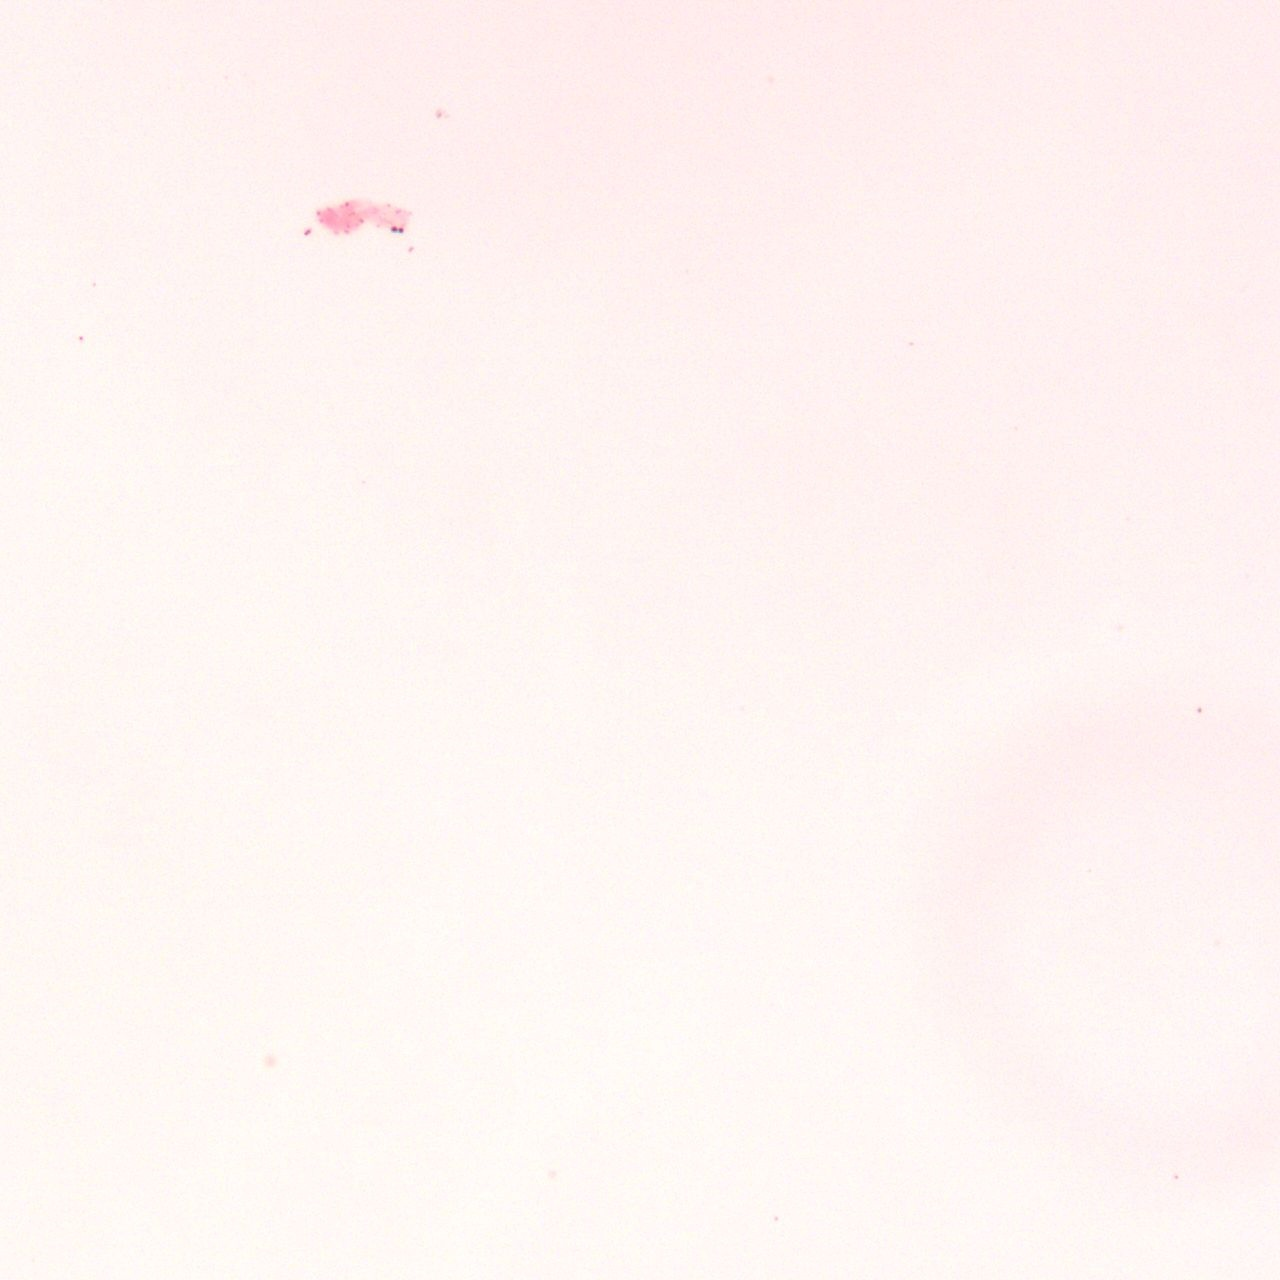dust: (313, 209, 324, 224), (300, 227, 315, 237), (406, 243, 416, 254), (343, 222, 350, 236), (326, 206, 335, 215), (394, 207, 403, 216), (390, 225, 397, 234), (343, 200, 350, 209), (358, 217, 365, 225), (435, 113, 443, 120), (347, 211, 356, 217), (384, 202, 392, 207), (375, 223, 381, 230), (399, 227, 404, 234), (332, 230, 340, 234), (79, 335, 84, 341)
